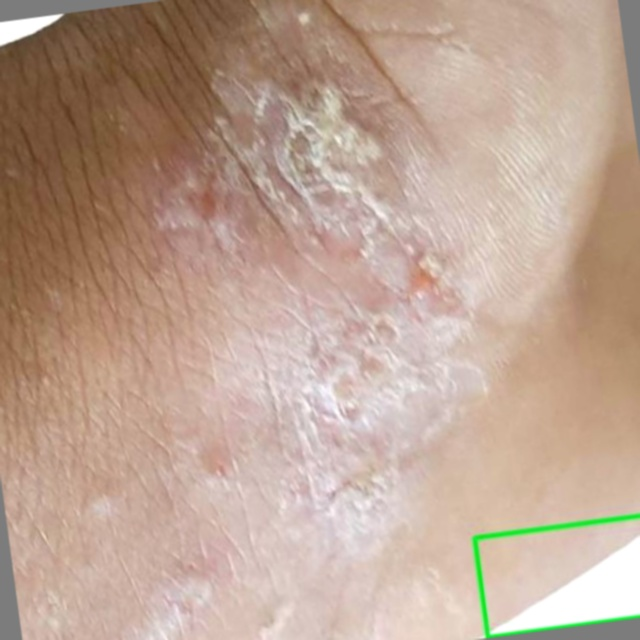Scabies: (474, 516, 639, 637)
